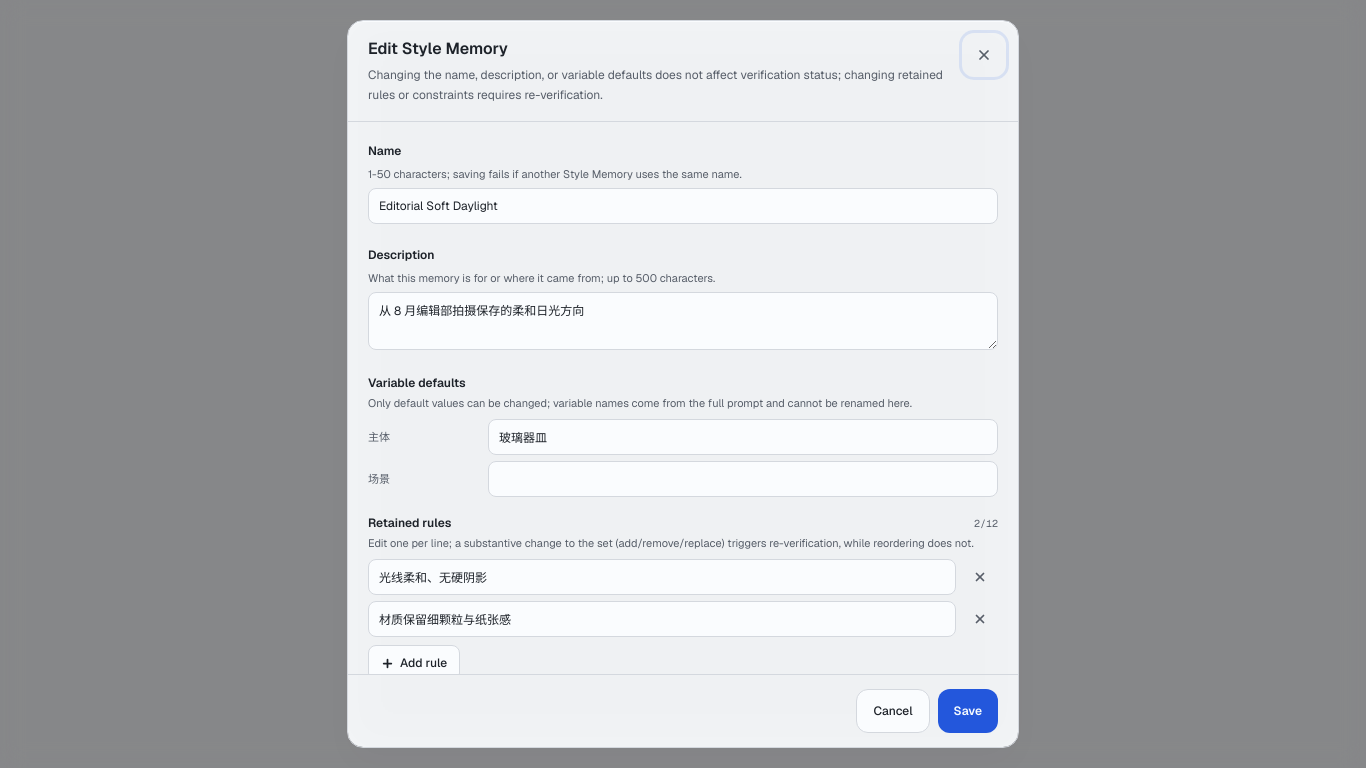
Test: StyleMemoryEditForm (plan-05 edit rollback hint) › name-only change: no rollback hint, shows stays-User-verified hint
The width and height of the screenshot is (1366, 768).
Replace the text in the field labelled "Name" with "Editorial Soft Daylight v2" at (683, 206), box [368,188,998,224]
(page scrolled)
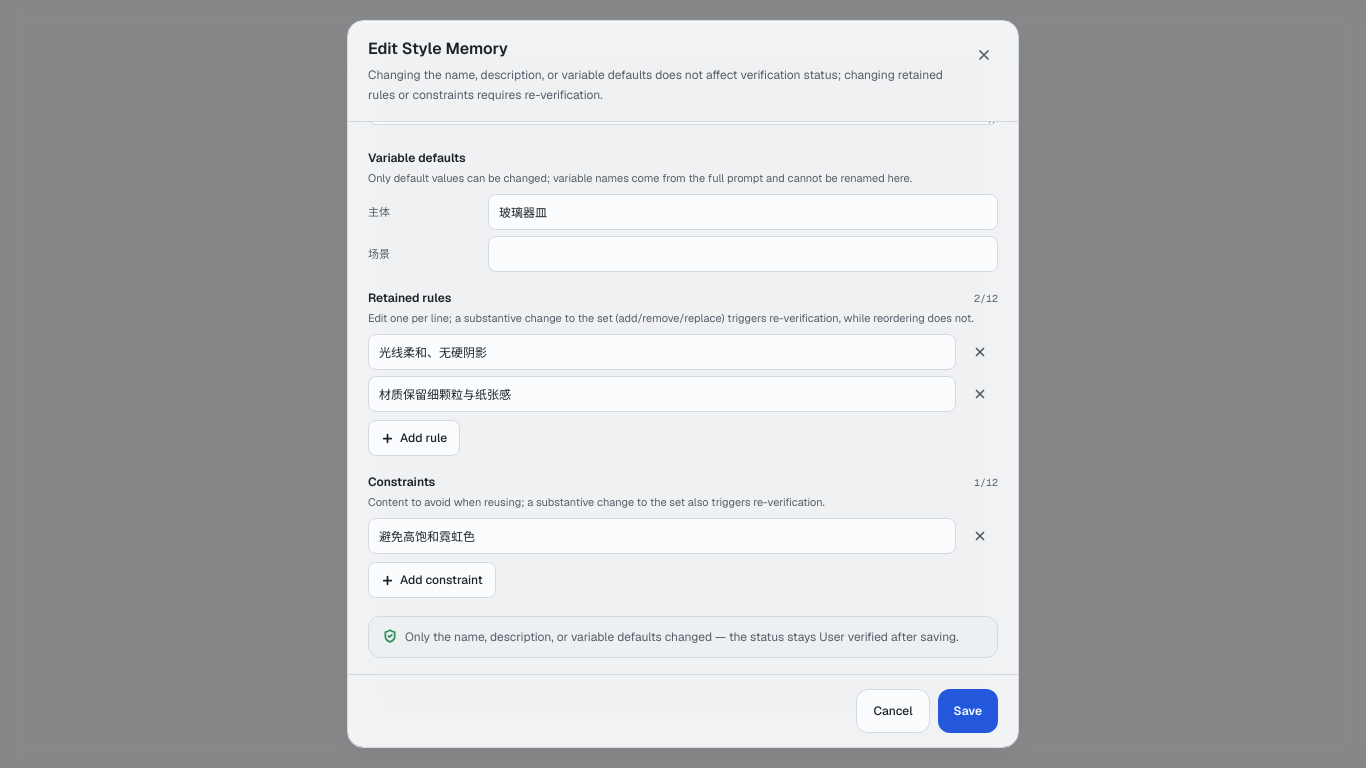
Check: the text "stays User verified" is shown, box [405,629,959,645]
